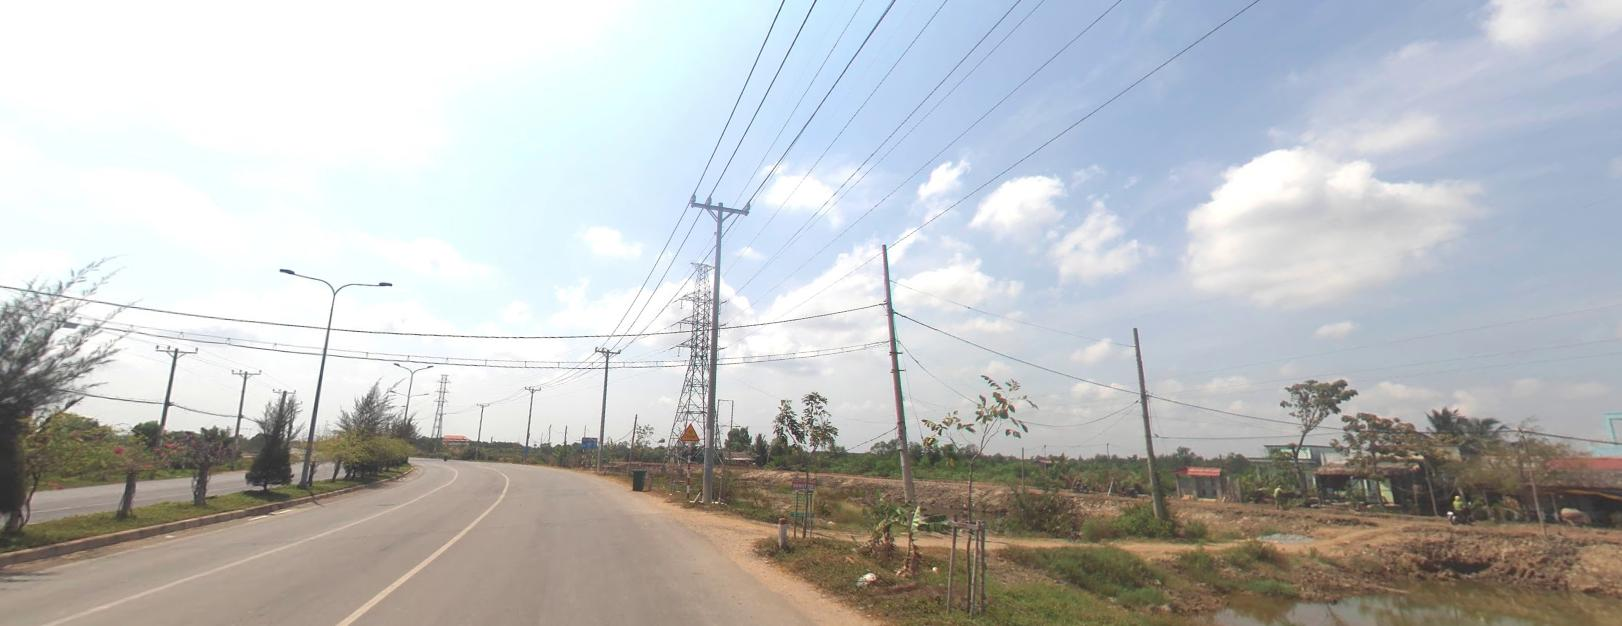Nguy hiem: (679, 422, 699, 440)
